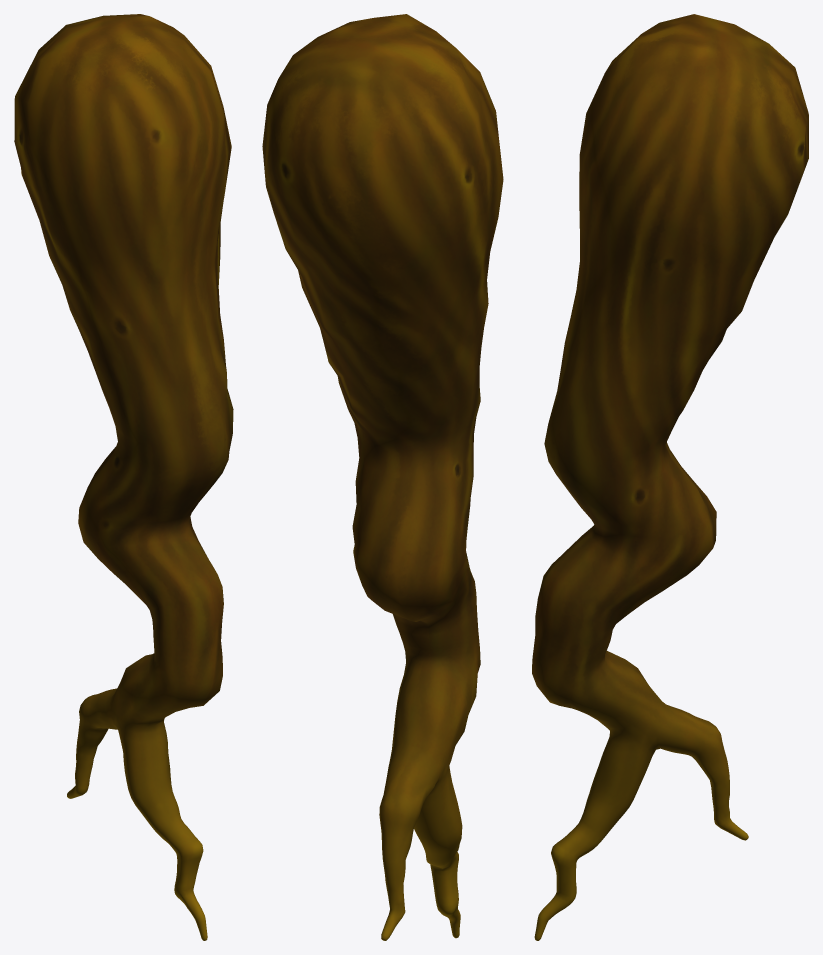
3 views of the same model, side by side, from view 1: azimuth 30°, elevation 25°; view 2: azimuth 150°, elevation 25°; view 3: azimuth 270°, elevation 25° (orthographic). The views are drawn at different scales.
Parts seen in each view (by area): view 1: SM_Root_2_LOD0; view 2: SM_Root_2_LOD0; view 3: SM_Root_2_LOD0.
Part boxes in pixels (x1,y1,x2,y2): SM_Root_2_LOD0: (14, 14, 233, 940); SM_Root_2_LOD0: (262, 14, 503, 940); SM_Root_2_LOD0: (532, 14, 808, 940).
Bounding box in the file's own units: 173 × 216 × 777.
1 material, 1 textured.
